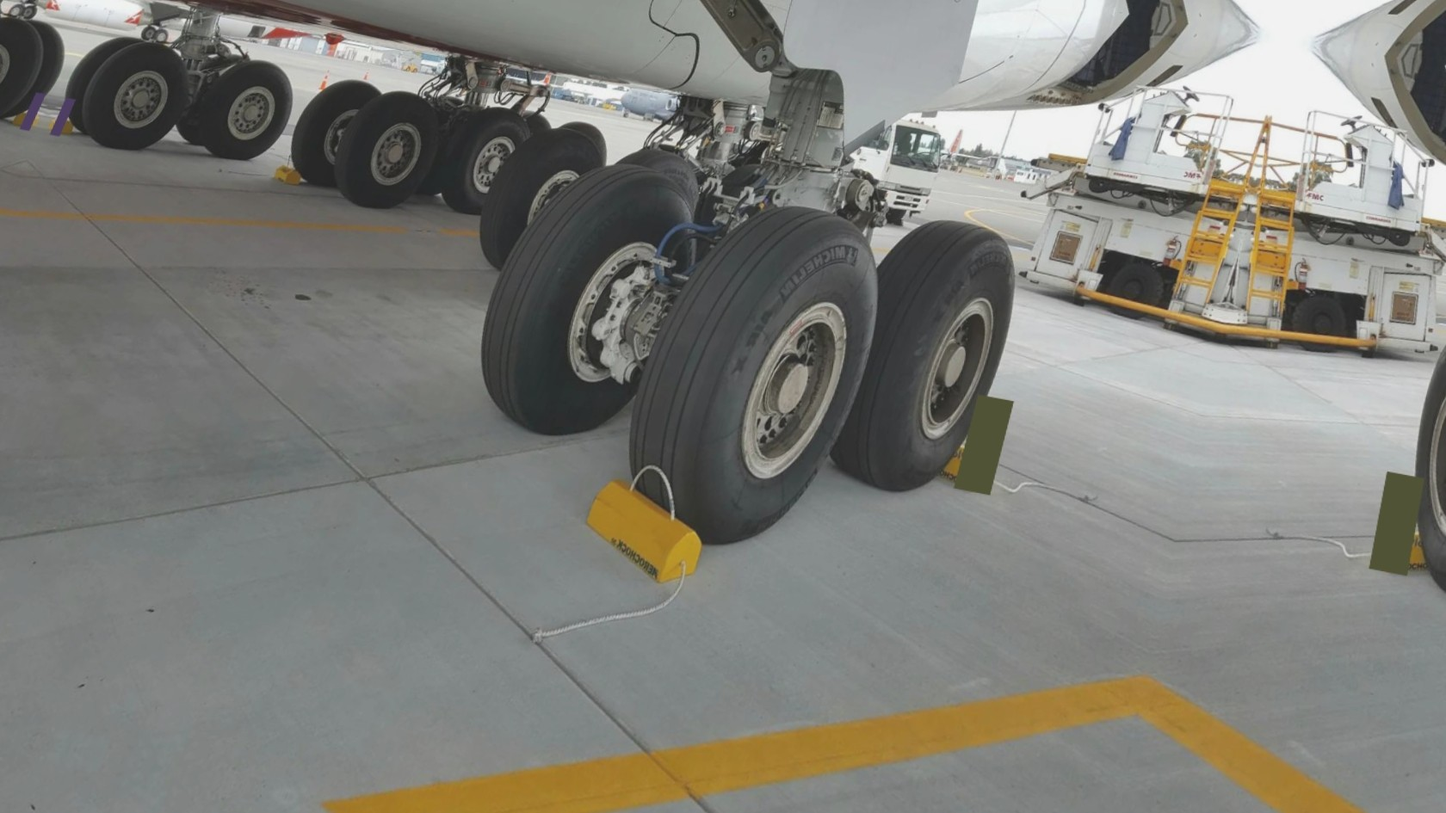chock: (567, 474, 727, 588), (887, 429, 1005, 496), (1368, 520, 1446, 590), (264, 163, 310, 190), (5, 107, 44, 132), (43, 114, 82, 138)
wheel: (588, 182, 911, 556), (446, 139, 726, 452), (808, 206, 1038, 503), (460, 109, 623, 279), (57, 33, 215, 157), (317, 83, 460, 216), (175, 51, 314, 167), (269, 69, 390, 192), (423, 99, 540, 220), (47, 27, 151, 134), (400, 94, 486, 200), (0, 16, 84, 121), (0, 7, 68, 130), (604, 139, 711, 205), (1286, 288, 1359, 359), (1097, 255, 1170, 324), (542, 116, 619, 165)
